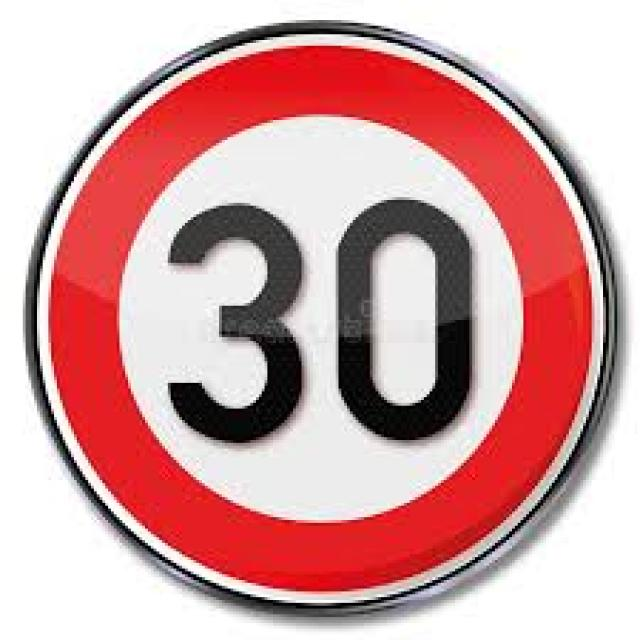Speed limit 30: (21, 16, 621, 616)
